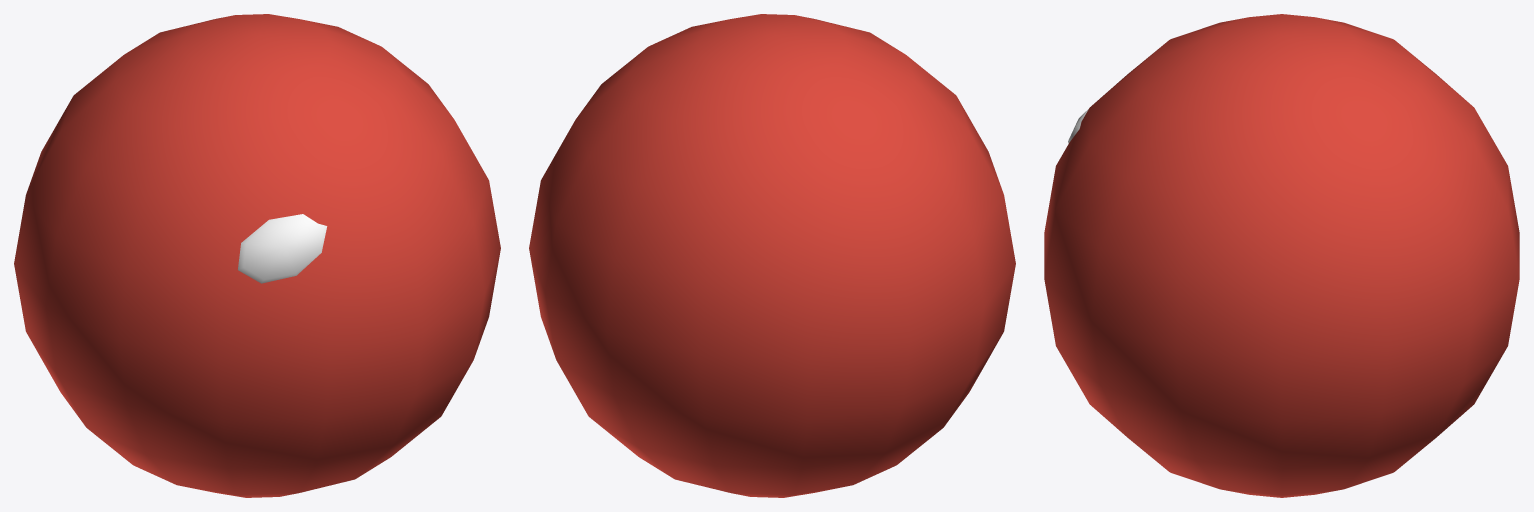
The model's file is face_clown_nose.glb.
The picture shows the model from 3 angles, left to right: view 1: azimuth 30°, elevation 25°; view 2: azimuth 150°, elevation 25°; view 3: azimuth 270°, elevation 25°; orthographic projection.
Visible parts, largest first — view 1: Nose, Shine; view 2: Nose; view 3: Nose.
Part boxes in pixels (bbox=[...]): Nose: bbox=[14, 14, 500, 497]; Shine: bbox=[238, 214, 327, 283]; Nose: bbox=[529, 14, 1015, 497]; Nose: bbox=[1044, 14, 1519, 497].
Size of the model in its own units: 0.132 by 0.132 by 0.1287.
